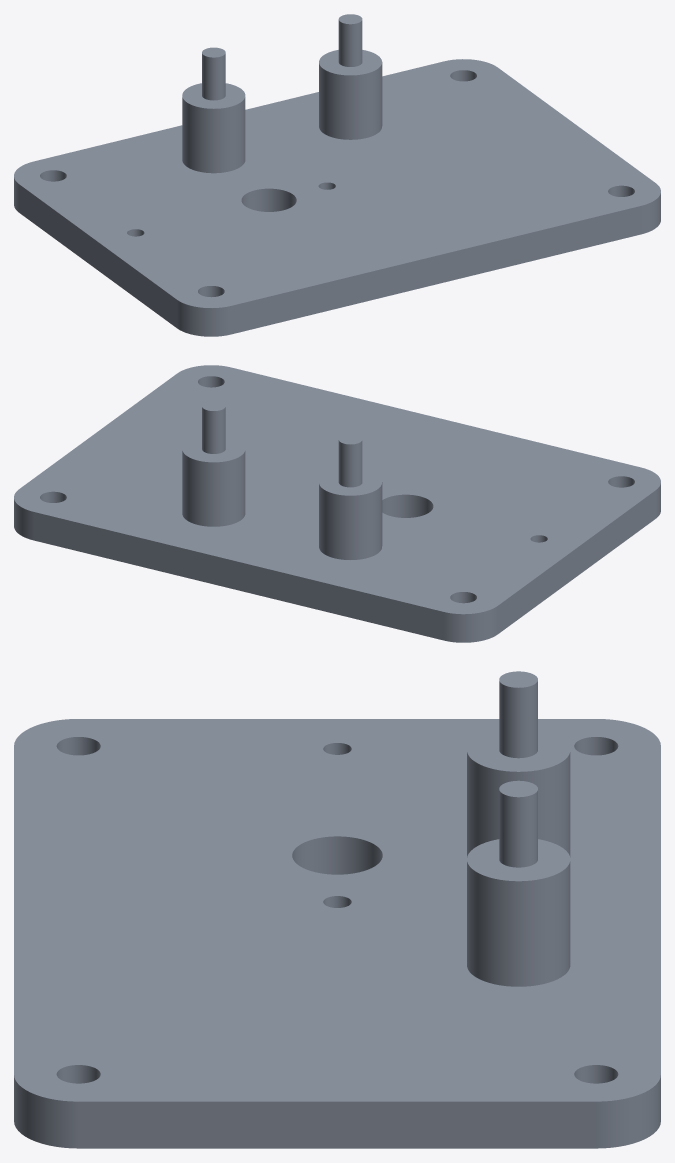
The model's file is step-4-preview-1.glb.
3 views of the same model, one above another, from view 1: azimuth 30°, elevation 25°; view 2: azimuth 150°, elevation 25°; view 3: azimuth 270°, elevation 25° (orthographic). The views are drawn at different scales.
Parts seen in each view (by area): view 1: preview_4, preview_8, preview_5, preview_3, preview_19, preview_6, preview_23, preview_16, preview_0, preview_1, preview_22, preview_10; view 2: preview_4, preview_9, preview_5, preview_19, preview_3, preview_7, preview_0, preview_23, preview_16, preview_22, preview_1, preview_11; view 3: preview_4, preview_12, preview_19, preview_3, preview_10, preview_11, preview_16, preview_23, preview_0, preview_1, preview_22.
Part boxes in pixels (bbox=[...]): preview_4: bbox=[14, 59, 660, 307]; preview_8: bbox=[231, 206, 641, 334]; preview_5: bbox=[19, 184, 176, 327]; preview_3: bbox=[182, 97, 245, 173]; preview_19: bbox=[319, 62, 382, 139]; preview_6: bbox=[177, 300, 230, 336]; preview_23: bbox=[338, 20, 362, 66]; preview_16: bbox=[241, 188, 296, 211]; preview_0: bbox=[202, 53, 225, 100]; preview_1: bbox=[182, 83, 245, 108]; preview_22: bbox=[319, 50, 381, 75]; preview_10: bbox=[641, 193, 660, 234]; preview_4: bbox=[14, 365, 660, 614]; preview_9: bbox=[33, 512, 443, 640]; preview_5: bbox=[498, 490, 655, 633]; preview_19: bbox=[182, 451, 245, 526]; preview_3: bbox=[319, 482, 382, 559]; preview_7: bbox=[444, 606, 497, 642]; preview_0: bbox=[338, 440, 362, 487]; preview_23: bbox=[202, 407, 225, 453]; preview_16: bbox=[382, 494, 433, 517]; preview_22: bbox=[182, 436, 245, 462]; preview_1: bbox=[319, 470, 381, 495]; preview_11: bbox=[14, 499, 33, 540]; preview_4: bbox=[14, 719, 660, 1101]; preview_12: bbox=[78, 1101, 596, 1148]; preview_19: bbox=[467, 861, 570, 986]; preview_3: bbox=[467, 752, 570, 857]; preview_10: bbox=[14, 1075, 78, 1148]; preview_11: bbox=[596, 1075, 660, 1148]; preview_16: bbox=[292, 836, 382, 874]; preview_23: bbox=[499, 790, 537, 867]; preview_0: bbox=[499, 681, 537, 758]; preview_1: bbox=[467, 730, 570, 771]; preview_22: bbox=[467, 839, 570, 881].
Bounding box in the file's own units: 0.07 × 0.019 × 0.05.
